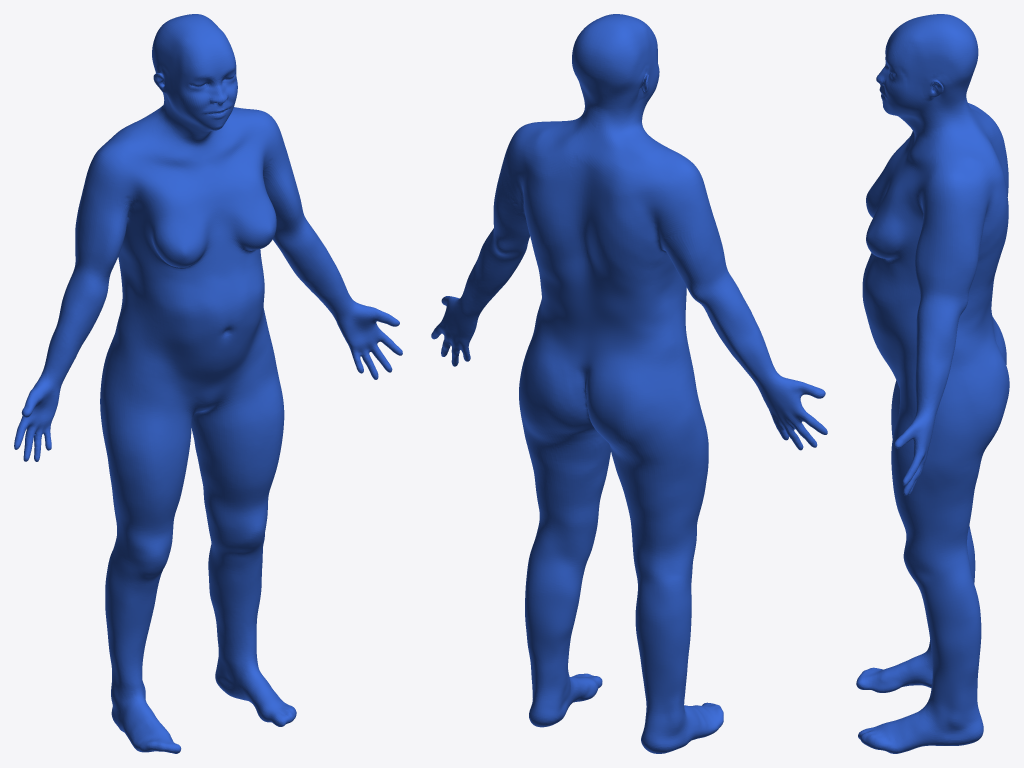
File: 3d-vh-f-skin_0.6.glb
The picture shows the model from 3 angles, left to right: view 1: azimuth 30°, elevation 25°; view 2: azimuth 150°, elevation 25°; view 3: azimuth 270°, elevation 25°; orthographic projection.
Parts seen in each view (by area): view 1: VH_F_skin; view 2: VH_F_skin; view 3: VH_F_skin.
Part boxes in pixels (<box>): VH_F_skin: <box>14,14,402,753</box>; VH_F_skin: <box>431,14,827,753</box>; VH_F_skin: <box>856,14,1009,753</box>.
Size of the model in its own units: 0.9675 by 1.67 by 0.3293.
